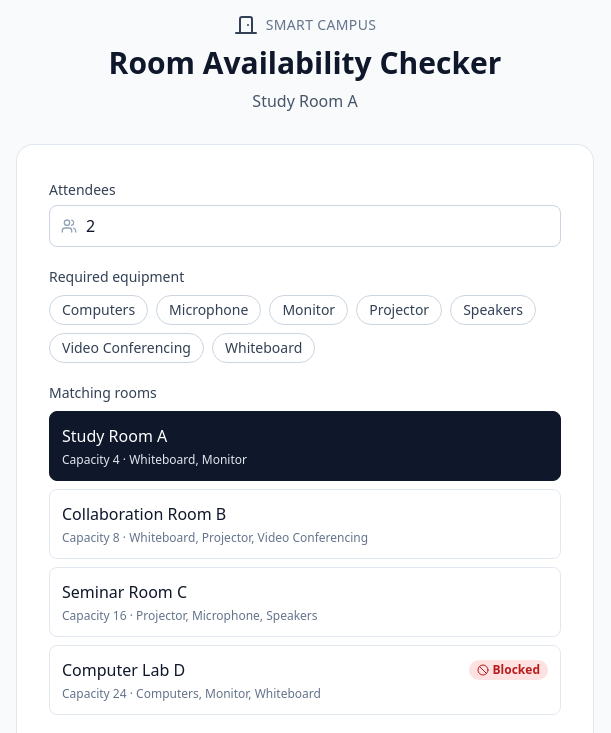
Scenario: App room availability UI › filters the visible rooms by capacity and equipment
Replace the text in the number field labelled "Attendees" with "10" at coordinates (305, 226), box x1=49 y1=205 x2=561 y2=247
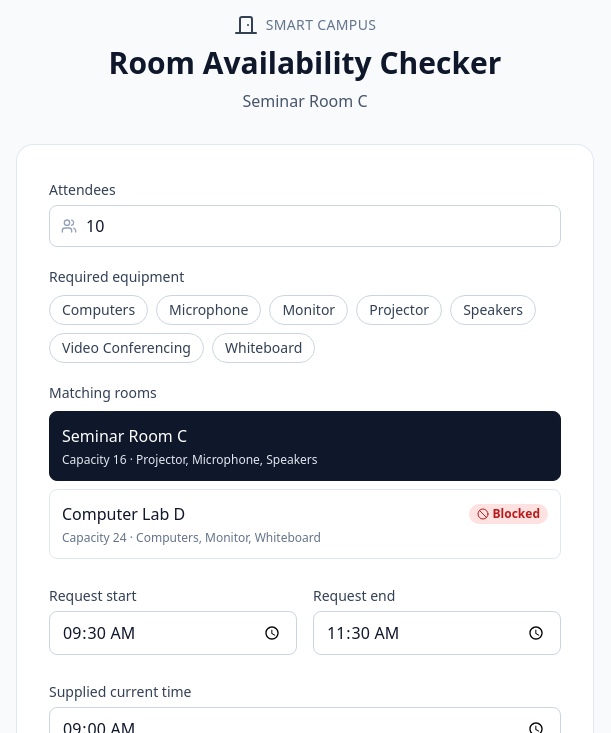
Expected: the button "Seminar Room C Capacity 16 · Projector, Microphone, Speakers" is shown, x1=49 y1=411 x2=561 y2=481
Expected: the text "Study Room A" is gone
Expected: the button "Collaboration Room B" is gone
Click the button "Projector" at coordinates (399, 310), box x1=356 y1=295 x2=442 y2=325
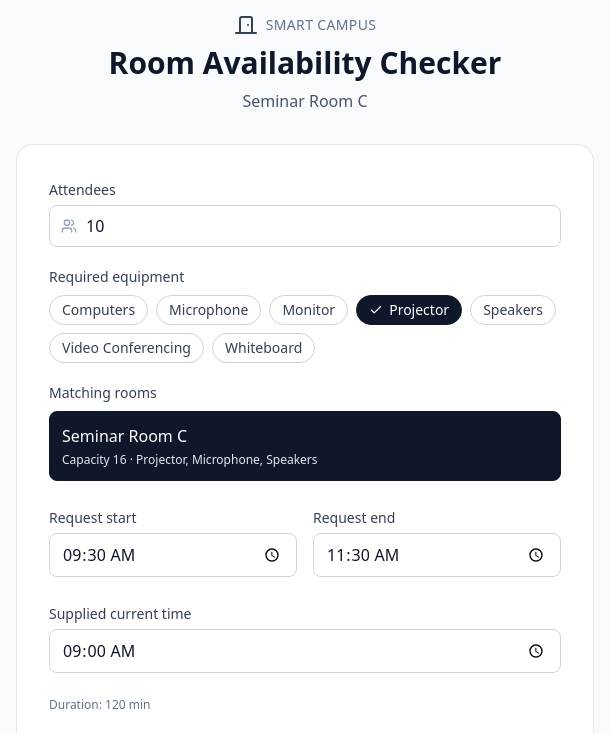
Expected: the button "Seminar Room C Capacity 16 · Projector, Microphone, Speakers" is shown, x1=49 y1=411 x2=561 y2=481
Expected: the button "Computer Lab D" is gone
